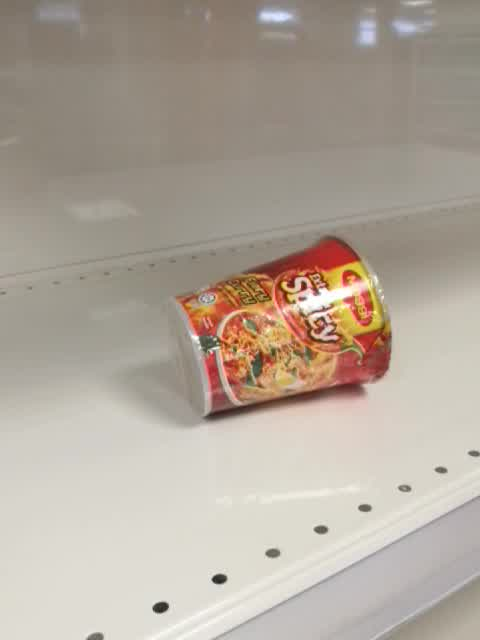maggi: (164, 234, 394, 418)
